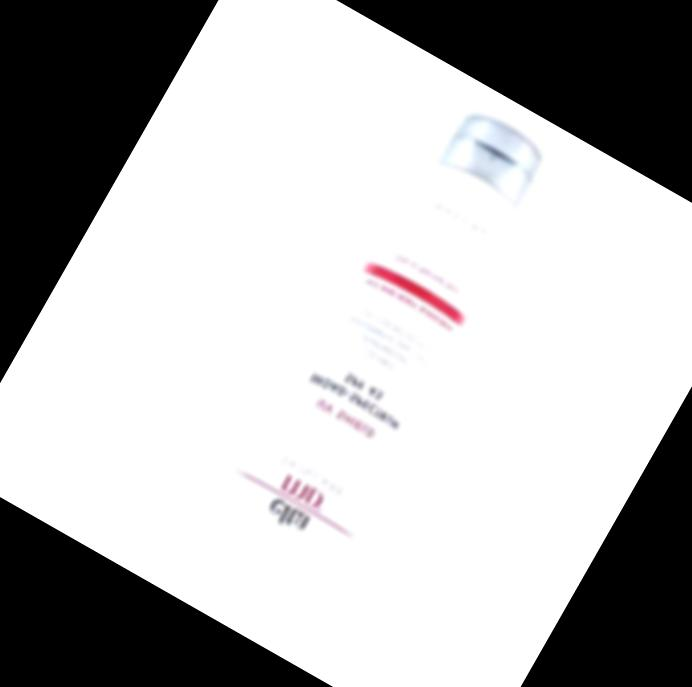cosmetic: (168, 83, 587, 640)
